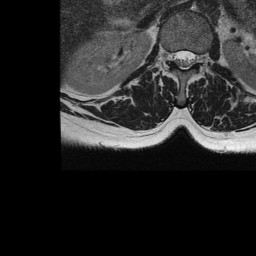CCS_normal: (180, 43, 188, 76)
LFS_normal: (196, 49, 203, 68)
LLS_normal: (188, 44, 196, 71)
RFS_normal: (165, 46, 172, 67)
RLS_normal: (172, 45, 180, 69)
